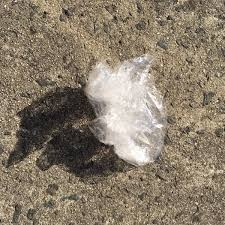plastic: (76, 46, 172, 171)
